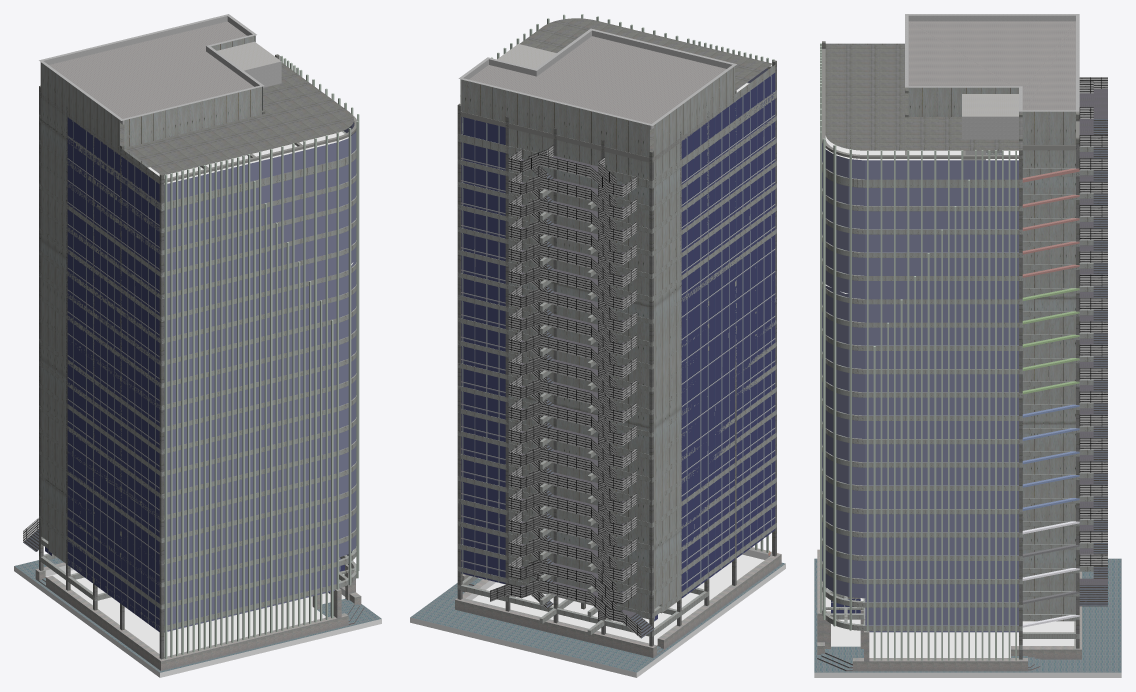
Rendered from Building.glb.
The picture shows the model from 3 angles, left to right: view 1: azimuth 30°, elevation 25°; view 2: azimuth 150°, elevation 25°; view 3: azimuth 270°, elevation 25°; orthographic projection. The views are drawn at different scales.
Parts seen in each view (by area): view 1: building; view 2: building; view 3: building.
Part boxes in pixels (x1,y1,x2,y2): building: [14, 14, 381, 677]; building: [410, 14, 785, 677]; building: [814, 14, 1121, 677].
Bounding box in the file's own units: 1571 × 3548 × 1790.
Materials: 36 (19 with a texture image).
